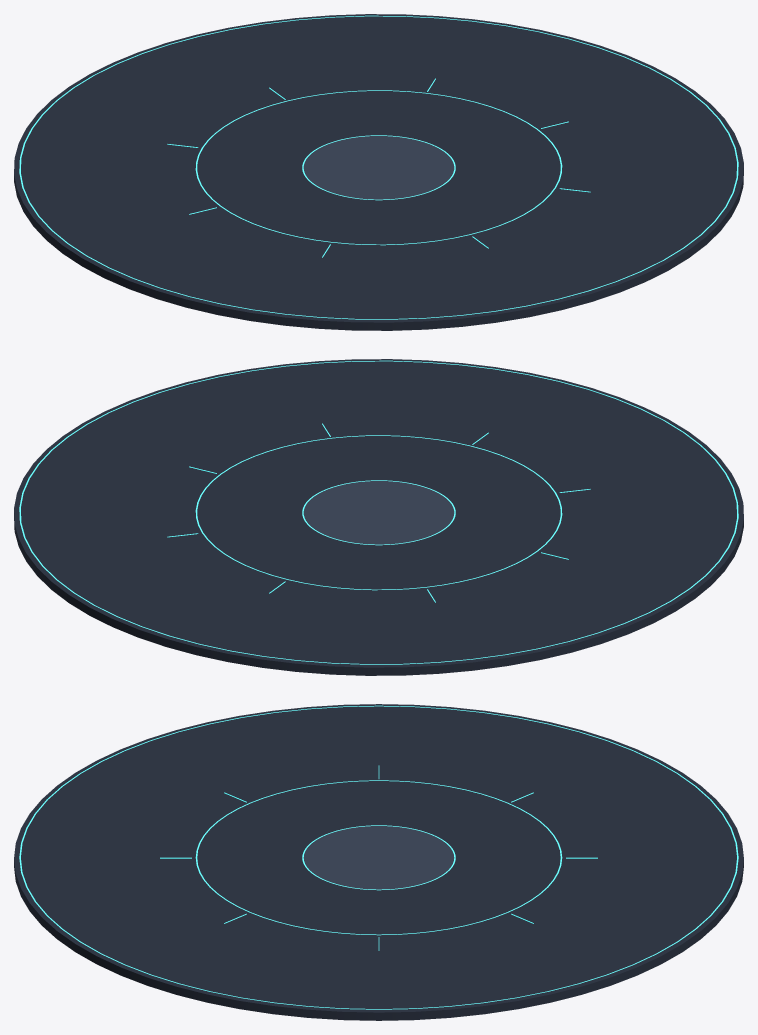
The picture shows the model from 3 angles, top to bottom: view 1: azimuth 30°, elevation 25°; view 2: azimuth 150°, elevation 25°; view 3: azimuth 270°, elevation 25°; orthographic projection.
Parts seen in each view (by area): view 1: nexo_floor.lod1; view 2: nexo_floor.lod1; view 3: nexo_floor.lod1.
Part boxes in pixels (bbox=[...]): nexo_floor.lod1: bbox=[14, 14, 743, 330]; nexo_floor.lod1: bbox=[14, 359, 743, 675]; nexo_floor.lod1: bbox=[14, 704, 743, 1020].
Bounding box in the file's own units: 48 × 0.6446 × 48.
